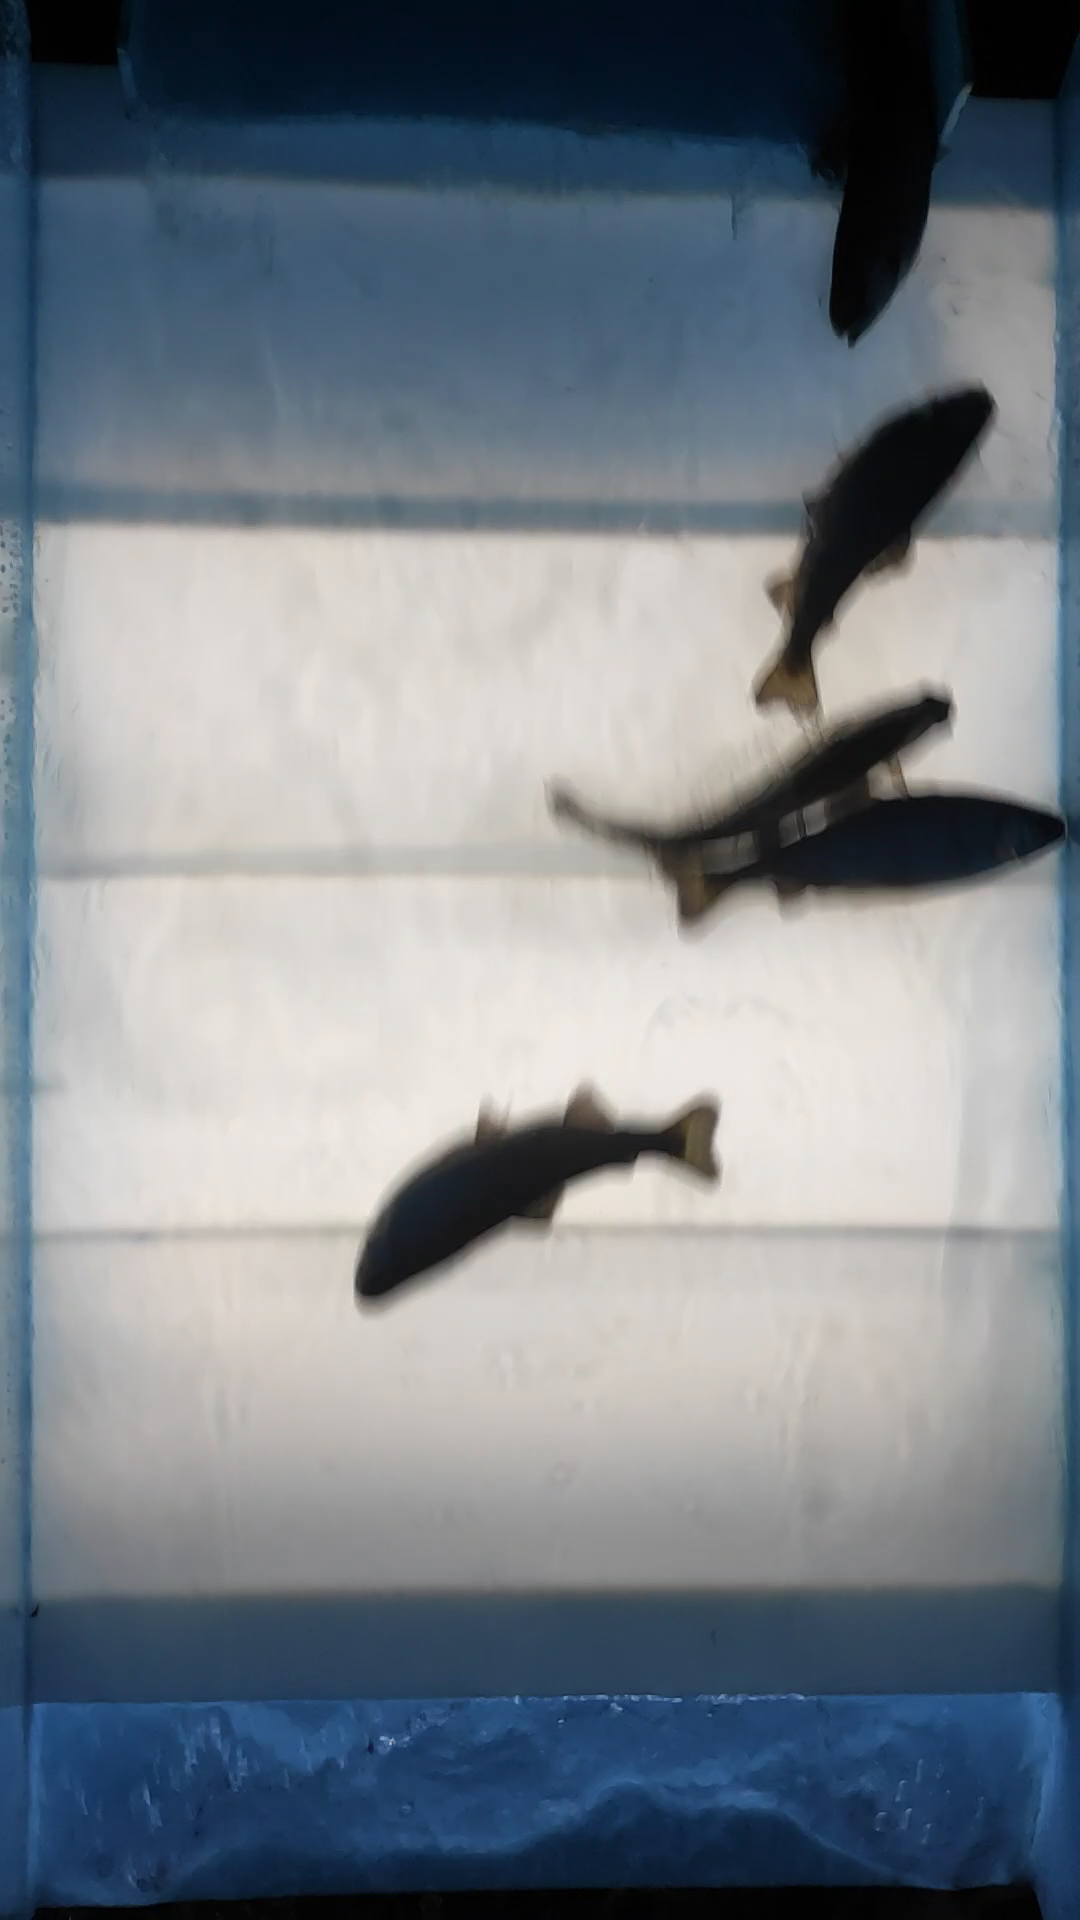fish: (339, 1065, 742, 1312), (738, 375, 998, 736), (545, 683, 957, 886), (651, 774, 1077, 930), (825, 1, 975, 351)
